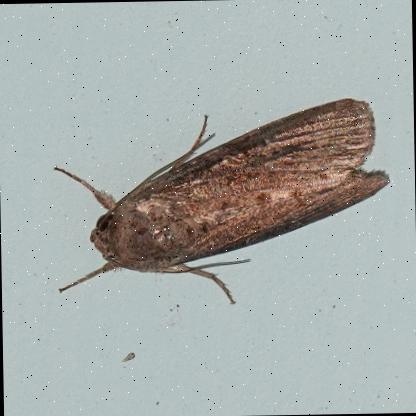Fall Armyworm Moth: (48, 93, 396, 310)
